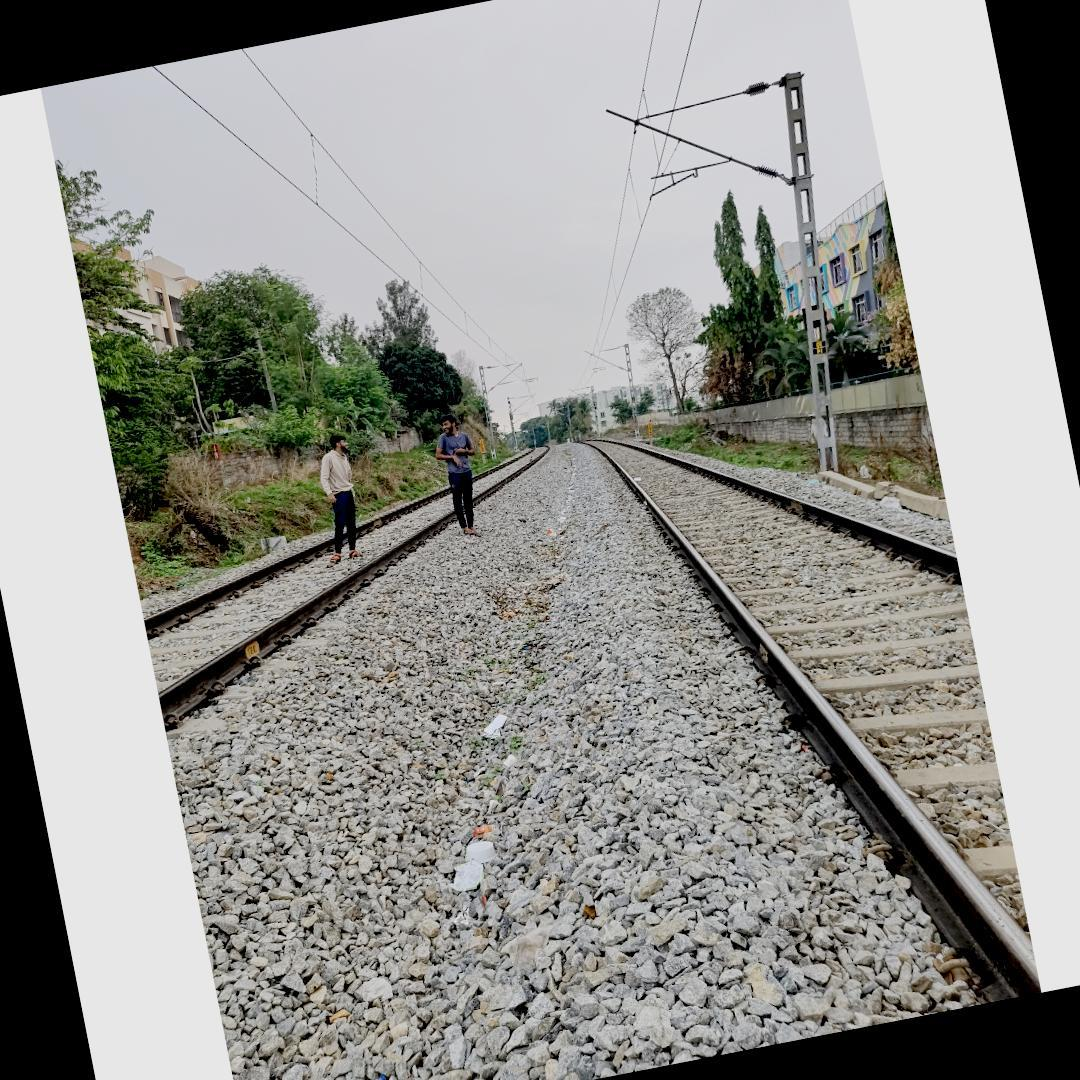standing: (304, 429, 371, 563), (428, 410, 493, 540)
track: (551, 427, 1039, 1005), (137, 450, 558, 823)
